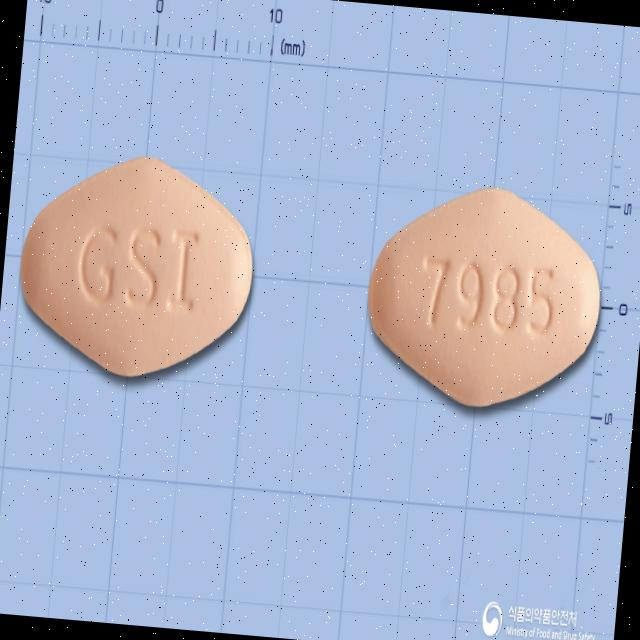Harvoni: (358, 175, 610, 417), (11, 146, 262, 388)
